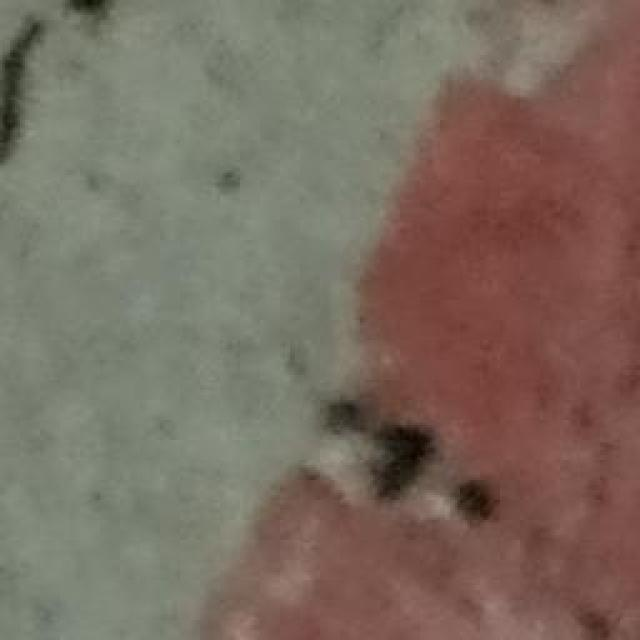Annular: (313, 401, 515, 546)
Rippled: (6, 0, 107, 174)
